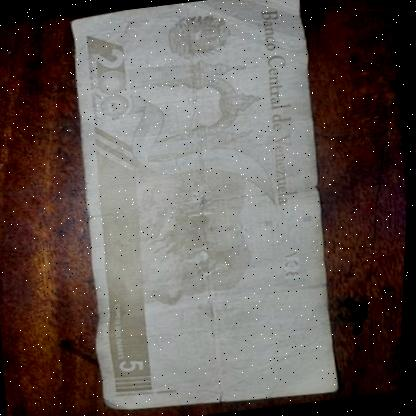five-back-vef: (54, 0, 356, 416)
